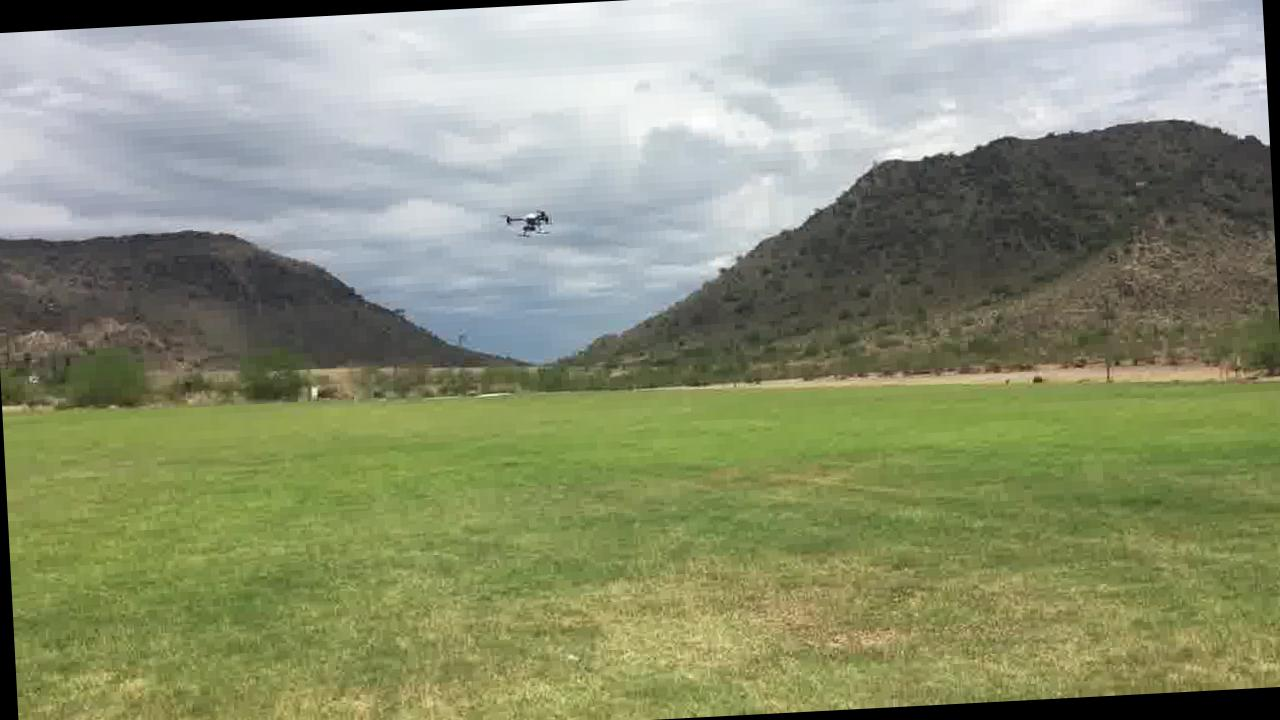drone: (498, 203, 556, 239)
